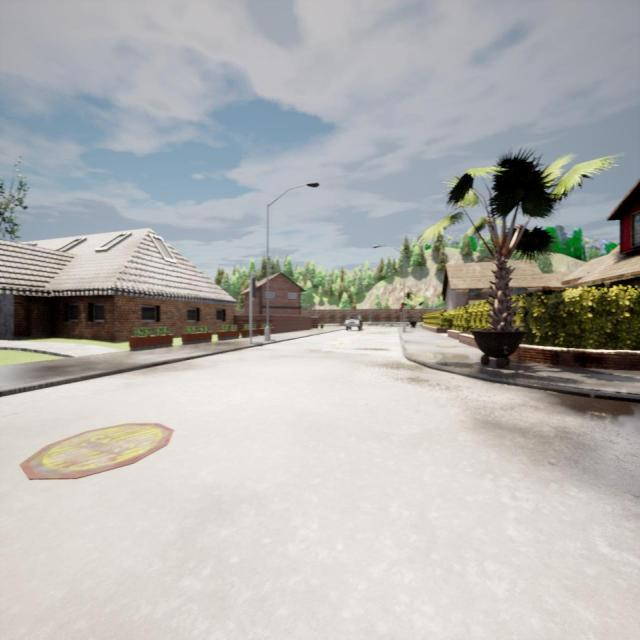Vehicle: (343, 314, 363, 330)
traffic_light: (251, 278, 256, 298), (400, 304, 402, 312)
